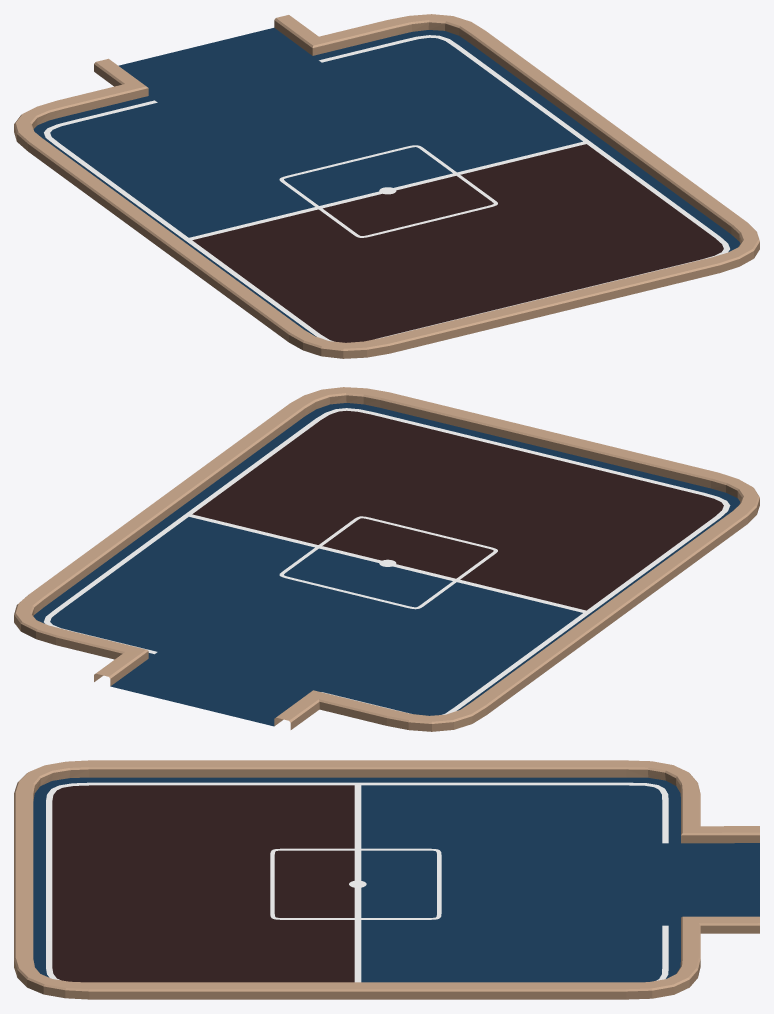
Rendered from PokemonMonster_Landing_RoadStage3.fbx.
3 renders of one model, top to bottom at view 1: azimuth 30°, elevation 25°; view 2: azimuth 150°, elevation 25°; view 3: azimuth 270°, elevation 25°, orthographic. The views are drawn at different scales.
Visible parts, largest first — view 1: Road_stage_cn; view 2: Road_stage_cn; view 3: Road_stage_cn.
Boxes of the visible parts, x1,y1,x2,y2 form: Road_stage_cn: (14, 14, 759, 358); Road_stage_cn: (14, 387, 759, 731); Road_stage_cn: (14, 760, 759, 999).
Size of the model in its own units: 14 by 0.278 by 19.17.
Materials: 1 (1 with a texture image).
